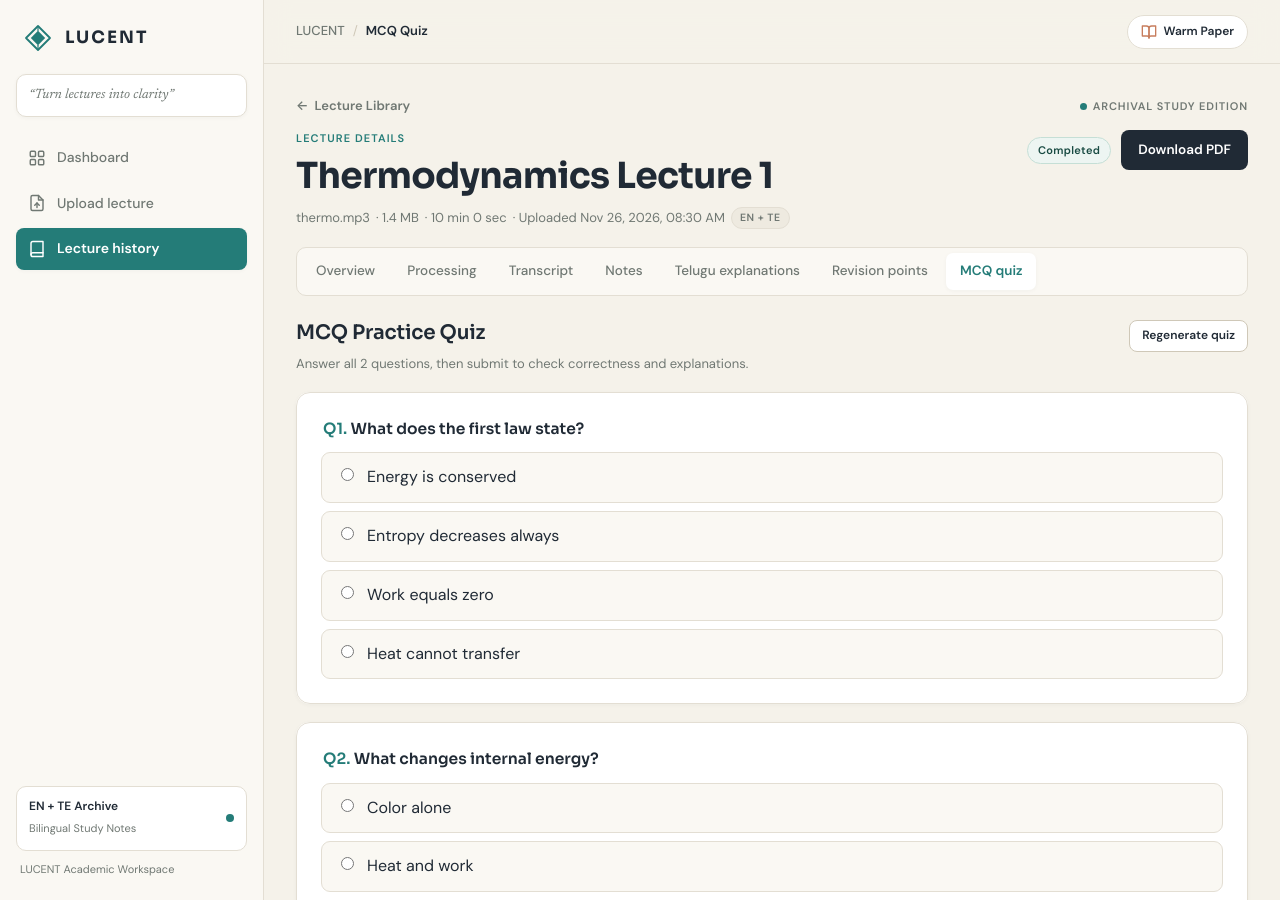
Test: Study workspace, quiz, PDF, and saved-output reuse › keeps quiz answers hidden until submission and grades answers on submit
This screenshot has width=1280, height=900.
Expected: the text "Q1. What does the first law state?" is shown, top-left (323, 419), bottom-right (584, 438)
Expected: the text "First law states energy conservation." is not shown
Click the radio button labelled "Energy is conserved" at point(348, 475), box top-left (341, 468), bottom-right (354, 481)
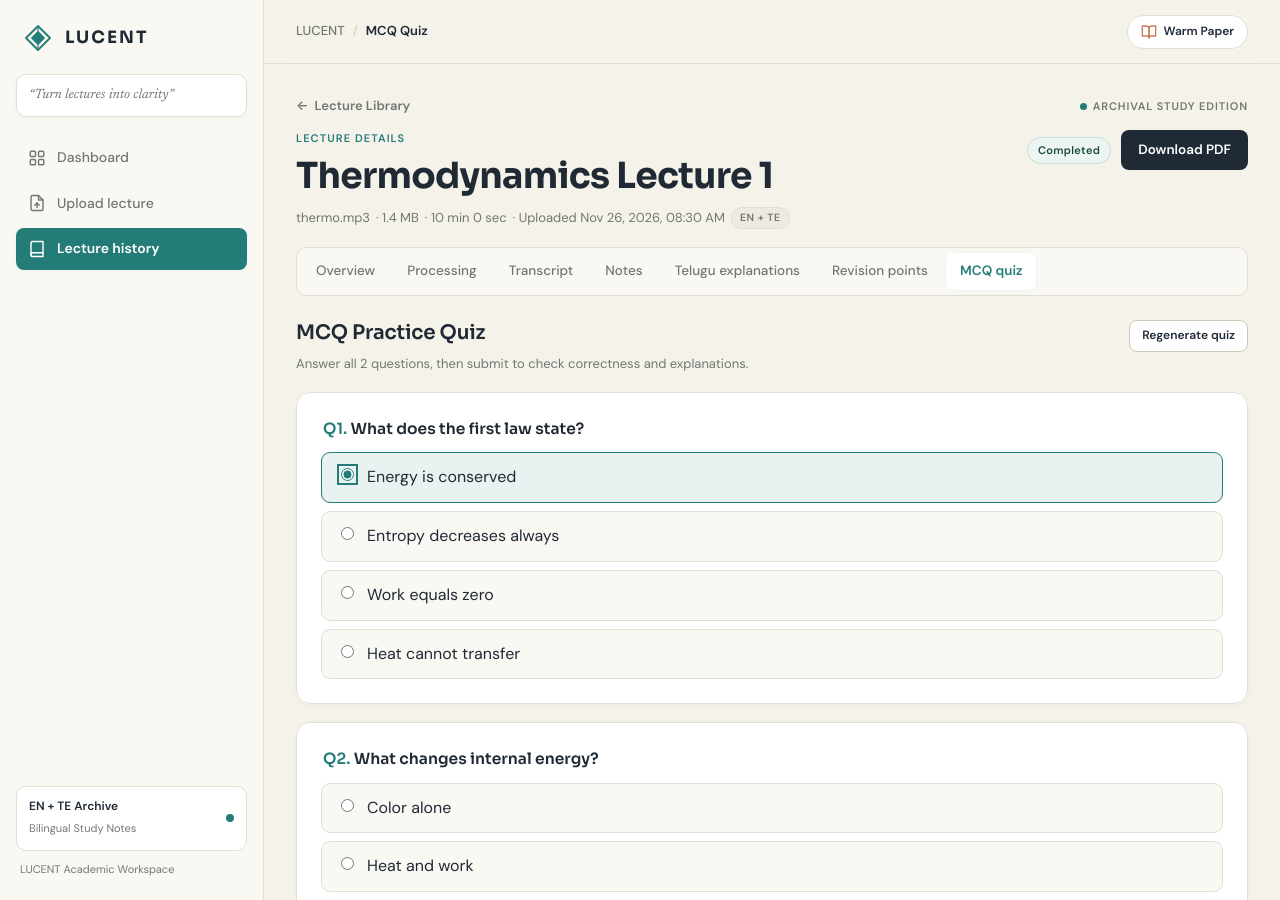
Click the radio button labelled "Color alone" at point(348, 805), box top-left (341, 799), bottom-right (354, 812)
(page scrolled)
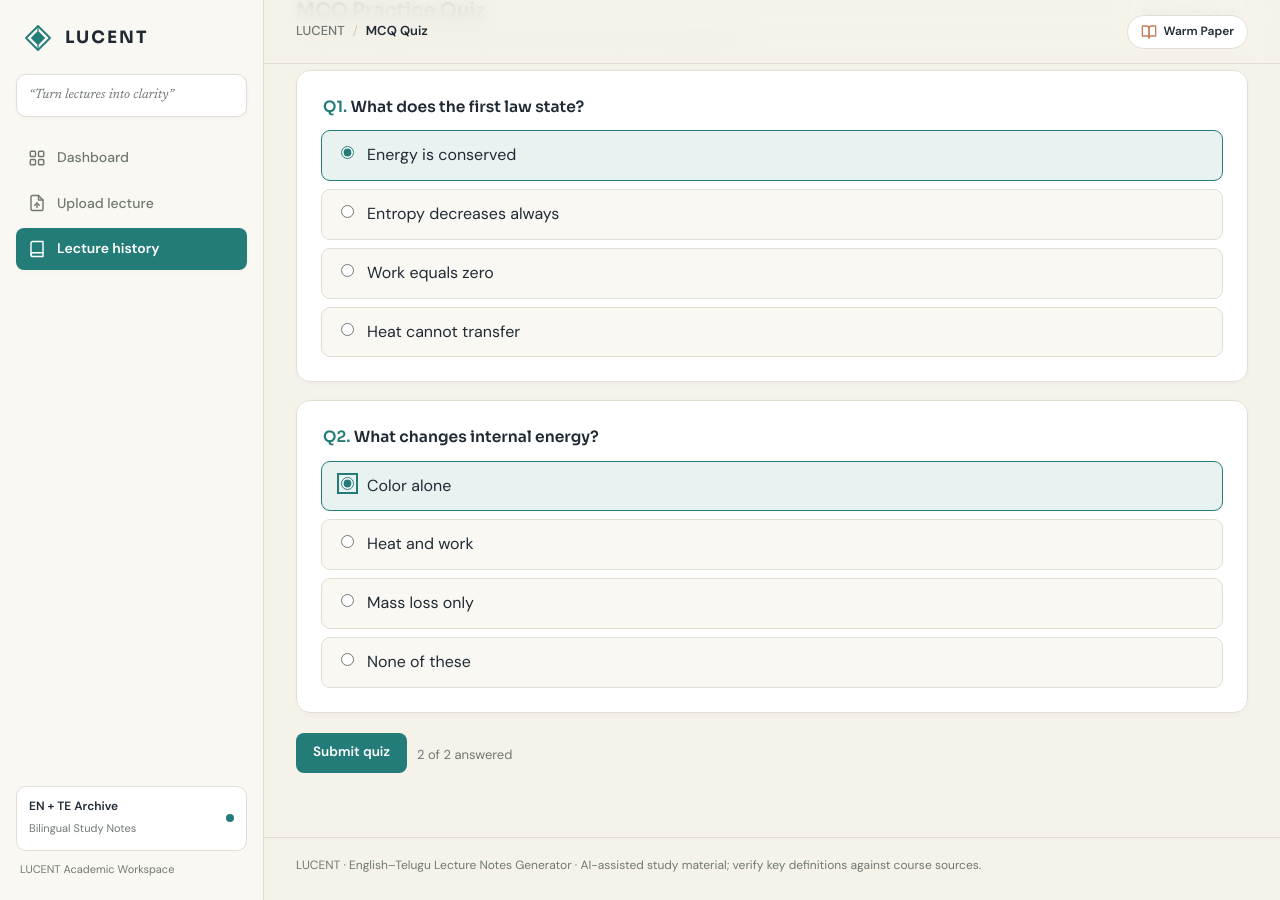
Expected: the button "Submit quiz" is enabled
Click the button "Submit quiz" at point(351, 753), box top-left (296, 733), bottom-right (407, 773)
(page scrolled)
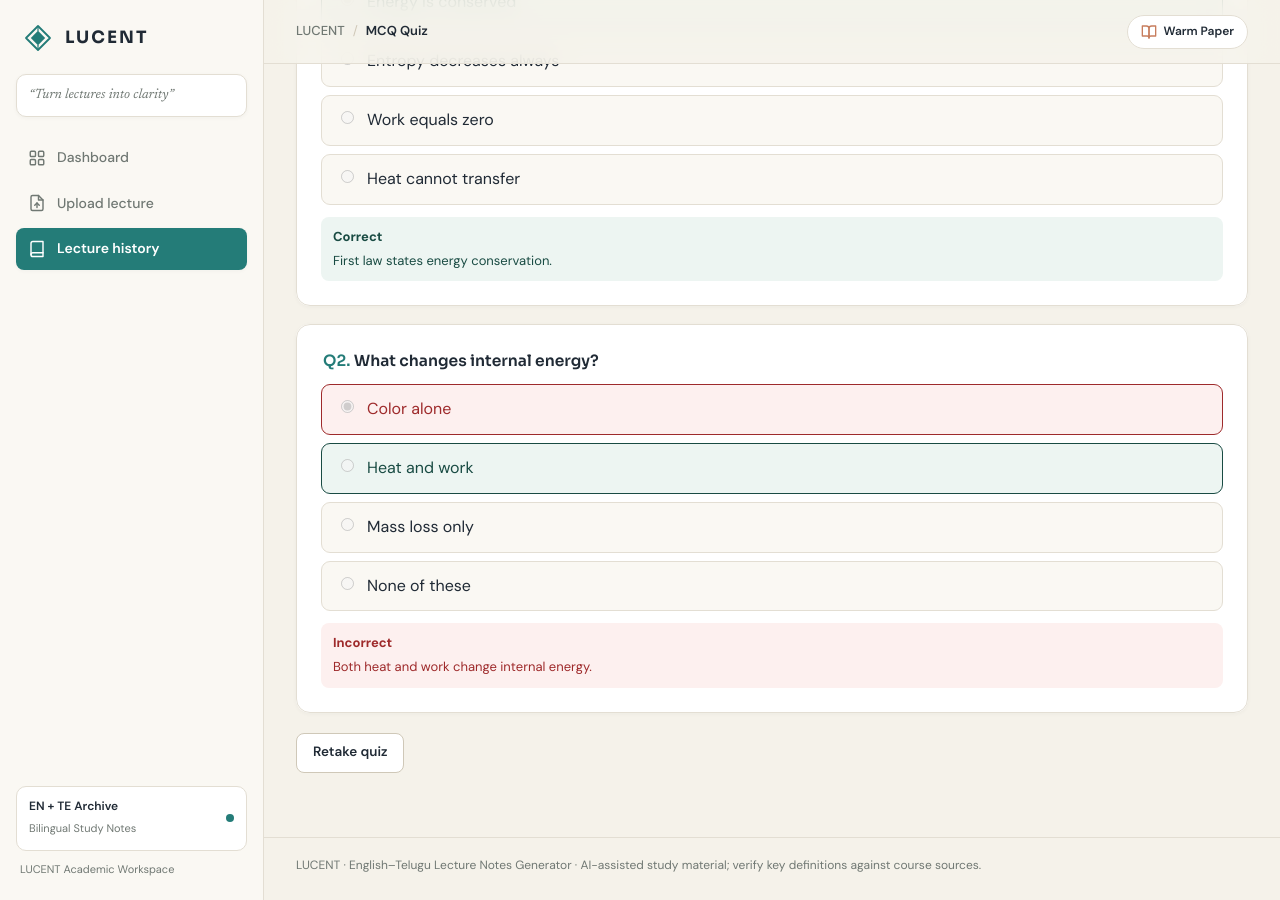
Expected: the text "First law states energy conservation." is shown, top-left (333, 252), bottom-right (552, 269)
Expected: the text "Both heat and work change internal energy." is shown, top-left (333, 658), bottom-right (592, 676)
Click the button "Retake quiz" at point(350, 753), box top-left (296, 733), bottom-right (404, 773)
(page scrolled)
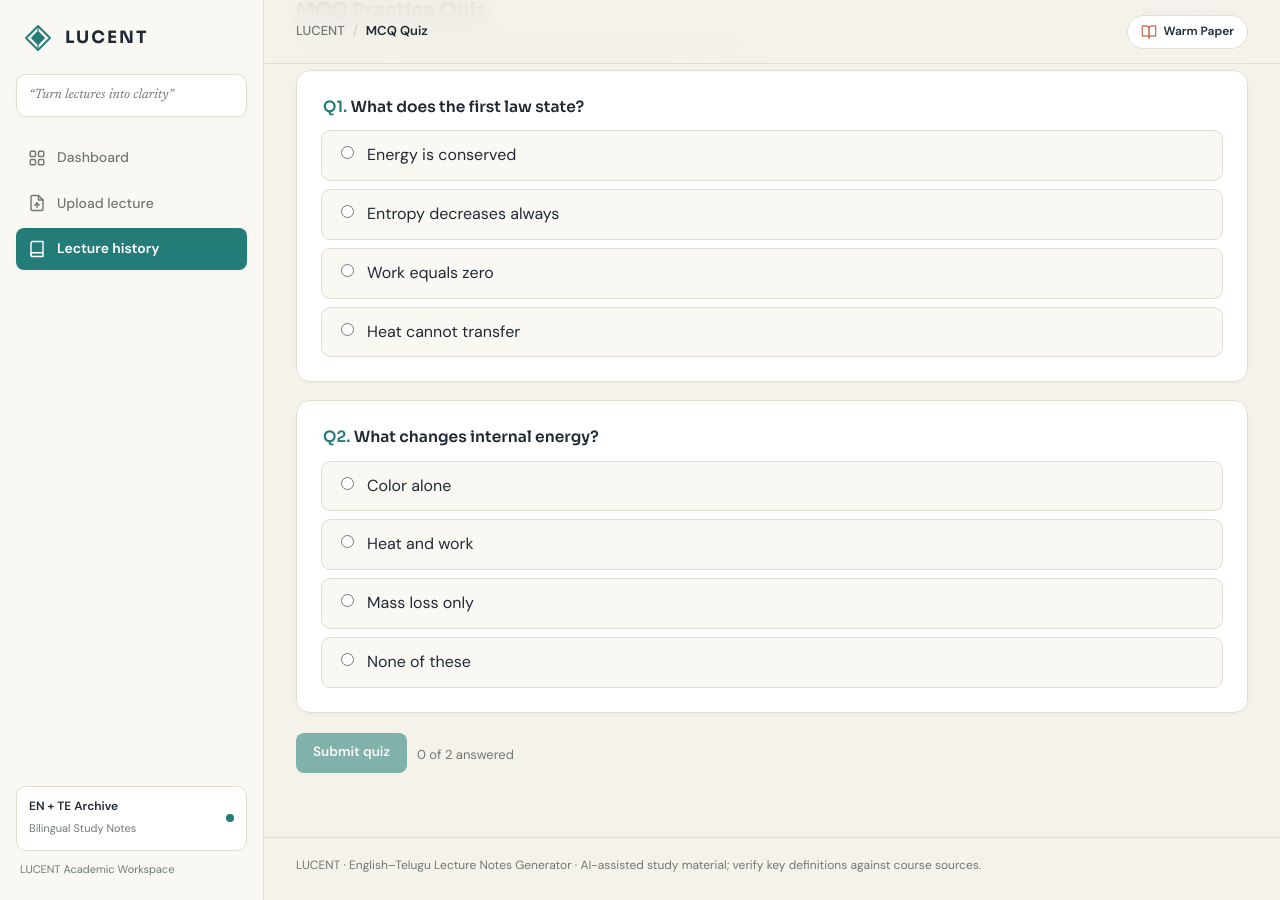
Expected: the button "Submit quiz" is disabled, top-left (296, 733), bottom-right (407, 773)
